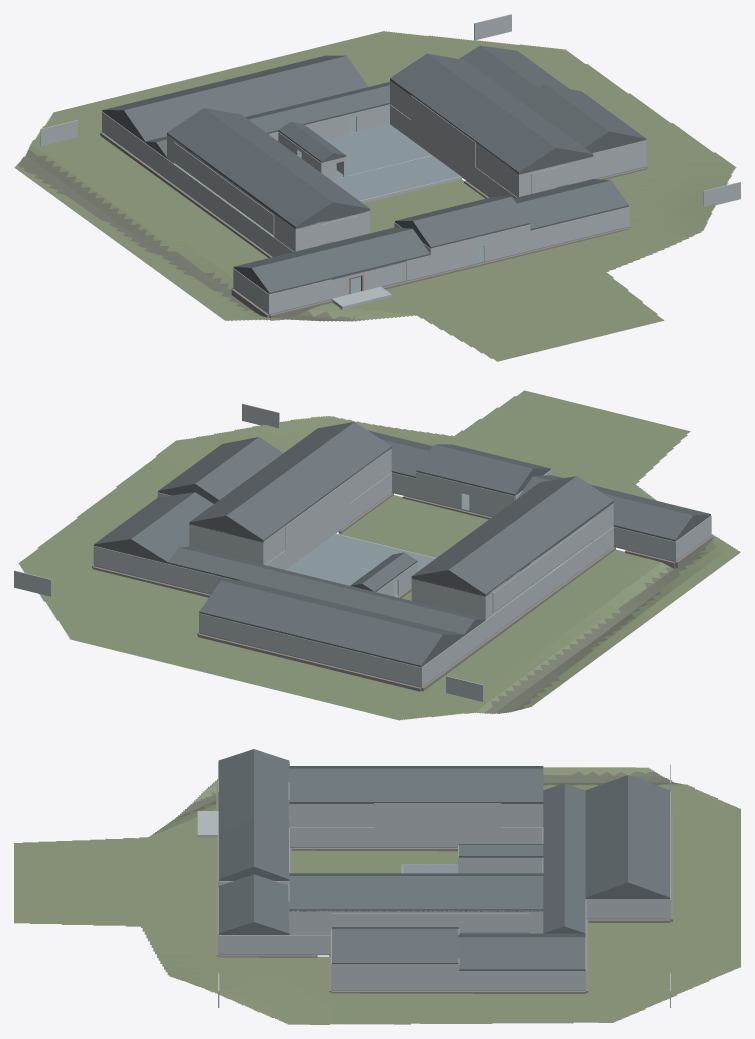
Rendered from clean-doorways.glb.
3 views of the same model, one above another, from view 1: azimuth 30°, elevation 25°; view 2: azimuth 150°, elevation 25°; view 3: azimuth 270°, elevation 25° (orthographic).
Parts seen in each view (by area): view 1: Saved editor macroterrain PRISON, food-and-medical roof south, east-cellhouse roof west, west-cellhouse roof west, intake-and-visitors roof south, sally-port roof south, guard-and-staff roof south, Ceiling cap plant, Ceiling cap laundry, west-cellhouse roof east, east-cellhouse roof east, north-cross roof south (+32 smaller); view 2: Saved editor macroterrain PRISON, food-and-medical roof north, west-cellhouse roof west, east-cellhouse roof west, north-cross roof north, sally-port roof north, west-cellhouse roof east, east-cellhouse roof east, intake-and-visitors roof north, isolation roof west, chapel roof west, Ceiling cap laundry (+29 smaller); view 3: Saved editor macroterrain PRISON, west-cellhouse roof east, east-cellhouse roof east, food-and-medical roof south, food-and-medical roof north, chapel roof east, isolation roof east, Wall chapel E, north-cross roof south, north-cross roof north, Wall a-rear-bypass E, intake-and-visitors roof south (+29 smaller).
Boxes of the visible parts, x1,y1,x2,y2 form: Saved editor macroterrain PRISON: (14, 31, 736, 361); food-and-medical roof south: (124, 56, 368, 142); east-cellhouse roof west: (390, 53, 555, 173); west-cellhouse roof west: (167, 108, 332, 227); intake-and-visitors roof south: (251, 229, 430, 293); sally-port roof south: (413, 197, 529, 247); guard-and-staff roof south: (517, 180, 628, 230); Ceiling cap plant: (325, 124, 431, 175); Ceiling cap laundry: (332, 155, 460, 200); west-cellhouse roof east: (204, 108, 369, 209); east-cellhouse roof east: (428, 53, 593, 155); north-cross roof south: (156, 85, 389, 157); Saved editor macroterrain PRISON: (18, 390, 740, 720); food-and-medical roof north: (199, 580, 442, 667); west-cellhouse roof west: (448, 476, 613, 595); east-cellhouse roof west: (226, 422, 391, 541); north-cross roof north: (168, 547, 474, 634); sally-port roof north: (416, 444, 532, 495); west-cellhouse roof east: (411, 476, 576, 577); east-cellhouse roof east: (189, 422, 353, 523); intake-and-visitors roof north: (517, 476, 693, 541); isolation roof west: (131, 492, 213, 563); chapel roof west: (195, 437, 283, 500); Ceiling cap laundry: (307, 534, 435, 571); Saved editor macroterrain PRISON: (14, 767, 740, 1024); west-cellhouse roof east: (289, 768, 543, 803); east-cellhouse roof east: (289, 876, 543, 910); food-and-medical roof south: (585, 775, 627, 898); food-and-medical roof north: (628, 775, 670, 898); chapel roof east: (331, 929, 458, 964); isolation roof east: (458, 937, 585, 970); Wall chapel E: (331, 964, 458, 990); north-cross roof south: (543, 783, 564, 933); north-cross roof north: (564, 783, 585, 933); Wall a-rear-bypass E: (430, 803, 500, 846); intake-and-visitors roof south: (218, 749, 253, 831).
Bounding box in the file's own units: 87 × 12.6 × 103.
Materials: 21 (11 with a texture image).
